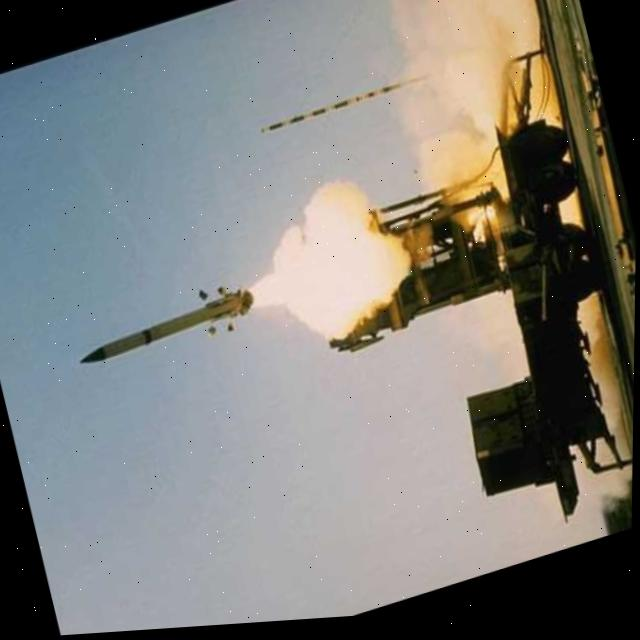missile: (74, 279, 258, 370)
